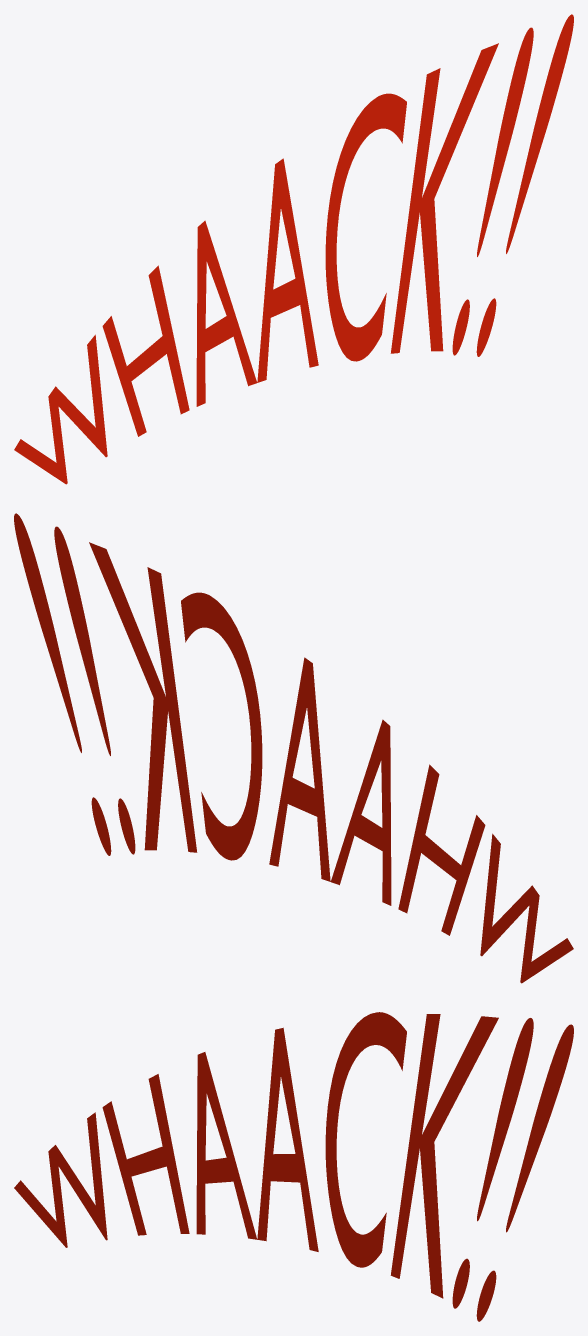
The model's file is AttackText.fbx.
3 renders of one model, top to bottom at view 1: azimuth 30°, elevation 25°; view 2: azimuth 150°, elevation 25°; view 3: azimuth 330°, elevation 25°, orthographic.
Visible parts, largest first — view 1: Text.008; view 2: Text.008; view 3: Text.008.
Part boxes in pixels (x1=…): Text.008: x1=14, y1=14, x2=573, y2=484; Text.008: x1=14, y1=513, x2=573, y2=983; Text.008: x1=14, y1=1012, x2=573, y2=1321.
Bounding box in the file's own units: 607 × 359 × 4.22e-05.
